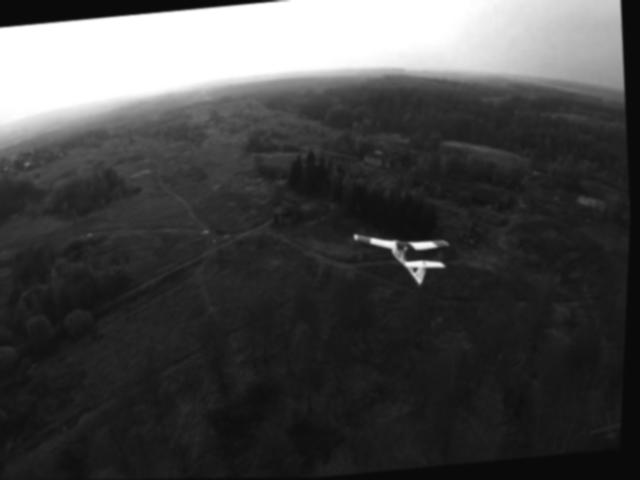hedef: (348, 215, 468, 293)
